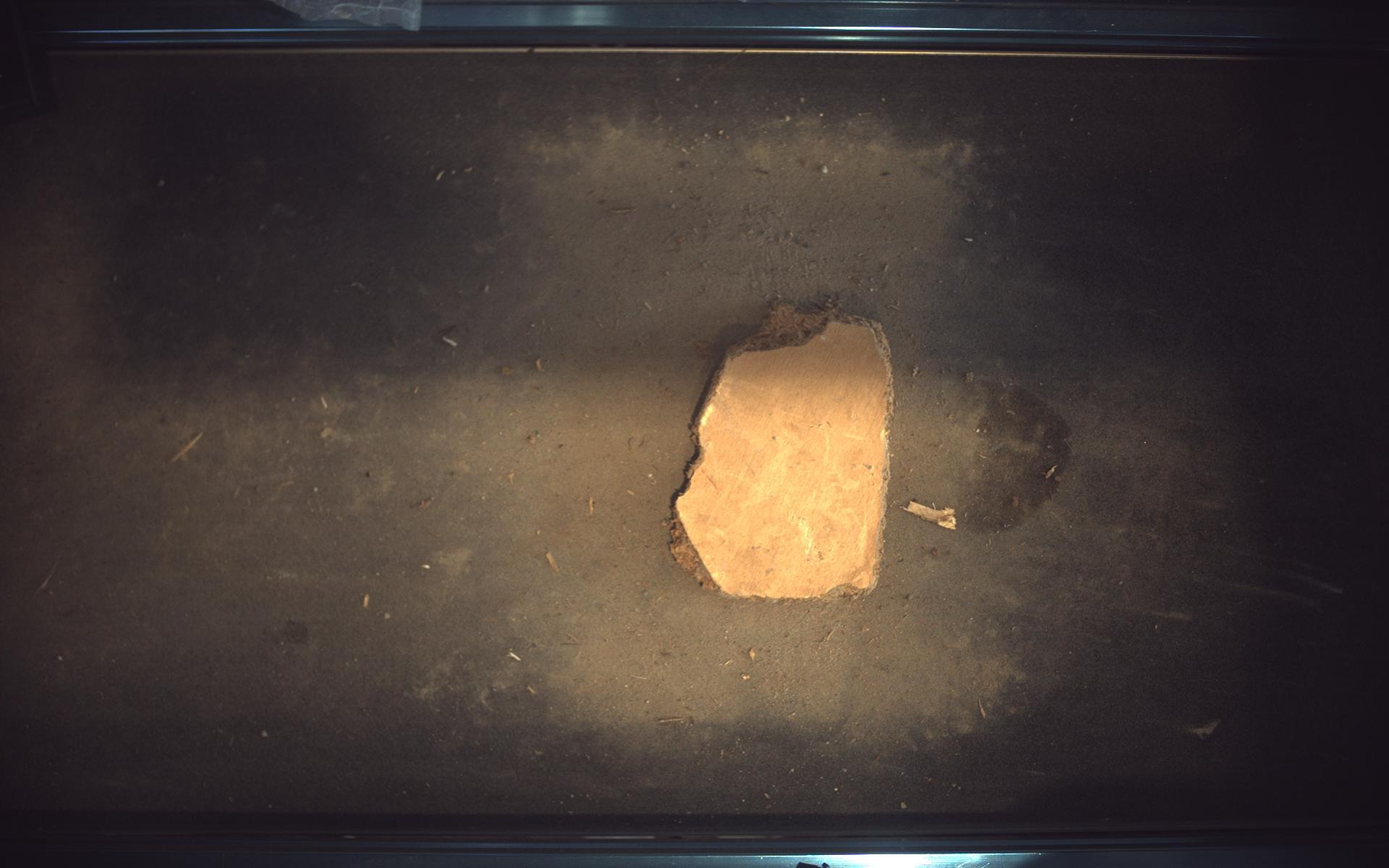wood: (671, 301, 895, 600)
